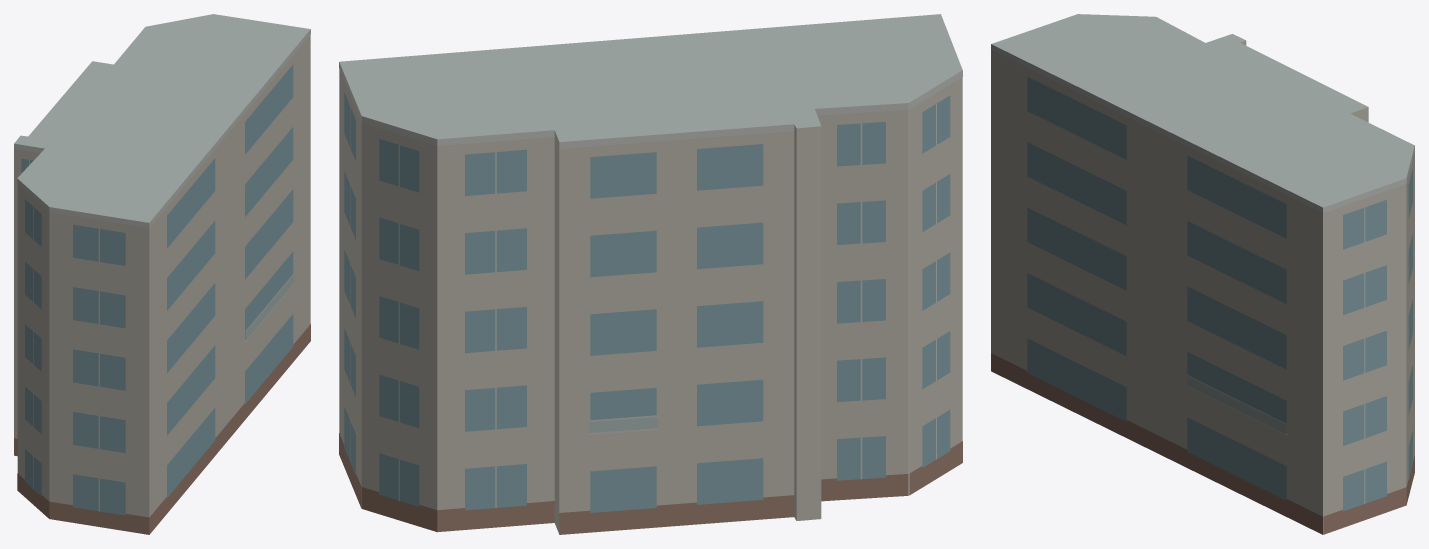
The model's file is survey-upis-33039429.glb.
3 renders of one model, left to right at view 1: azimuth 30°, elevation 25°; view 2: azimuth 150°, elevation 25°; view 3: azimuth 270°, elevation 25°, orthographic. The views are drawn at different scales.
Visible parts, largest first — view 1: survey-upis-33039429.tmp; view 2: survey-upis-33039429.tmp; view 3: survey-upis-33039429.tmp.
Part boxes in pixels (box(x1,y1,x2,y2)): survey-upis-33039429.tmp: box(14, 14, 310, 534); survey-upis-33039429.tmp: box(339, 14, 962, 534); survey-upis-33039429.tmp: box(991, 14, 1414, 534).
Size of the model in its own units: 18.16 by 14.3 by 16.79.
